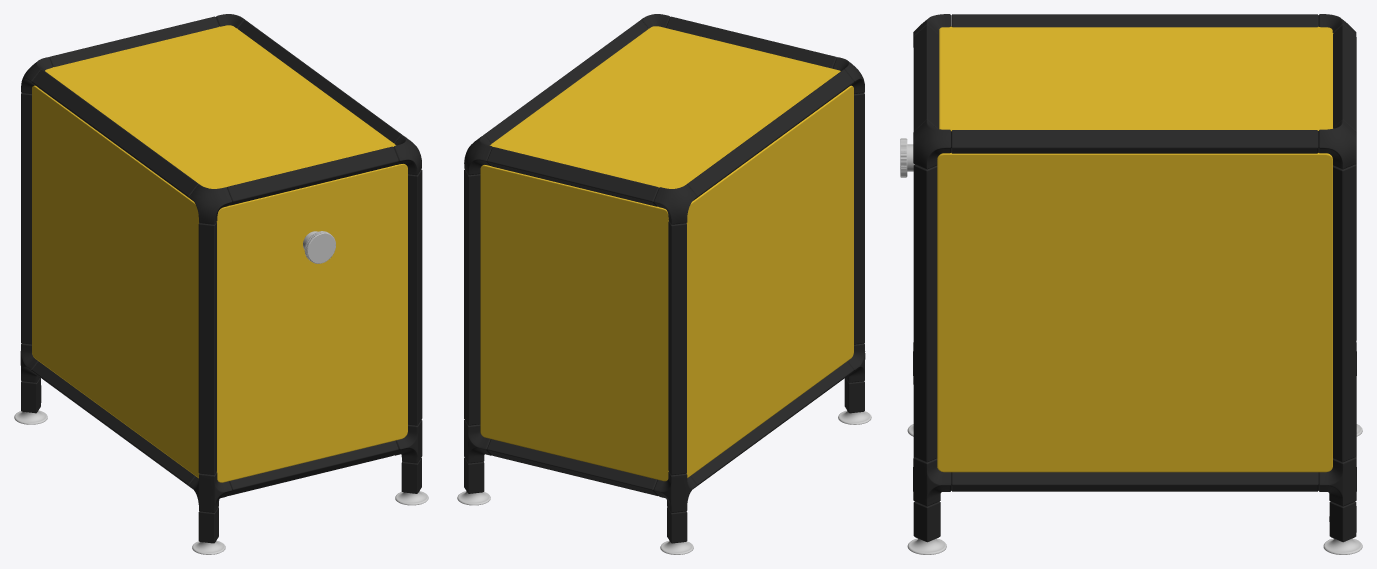
The picture shows the model from 3 angles, left to right: view 1: azimuth 30°, elevation 25°; view 2: azimuth 150°, elevation 25°; view 3: azimuth 270°, elevation 25°; orthographic projection. The views are drawn at different scales.
Visible parts, largest first — view 1: 229x374x329; view 2: 229x374x329; view 3: 229x374x329.
Part boxes in pixels (<box>): 229x374x329: <box>14,14,428,554</box>; 229x374x329: <box>457,14,871,554</box>; 229x374x329: <box>900,14,1362,554</box>.
Size of the model in its own units: 0.3189 by 0.4683 by 0.4707.
